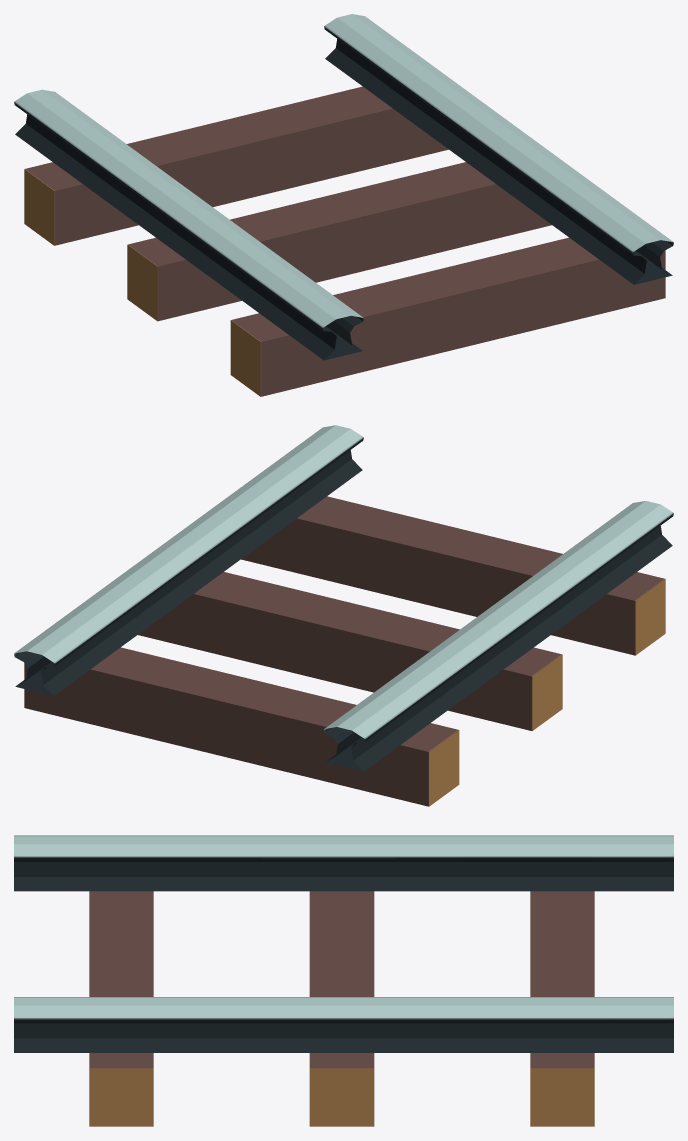
File: Trilho.fbx
3 views of the same model, one above another, from view 1: azimuth 30°, elevation 25°; view 2: azimuth 150°, elevation 25°; view 3: azimuth 270°, elevation 25° (orthographic). The views are drawn at different scales.
Visible parts, largest first — view 1: RailWorld; view 2: RailWorld; view 3: RailWorld.
Boxes of the visible parts, box(x1,y1,x2,y2) form: RailWorld: box(14, 14, 673, 396); RailWorld: box(14, 425, 673, 806); RailWorld: box(14, 835, 673, 1126).
Bounding box in the file's own units: 605 × 134 × 800.
